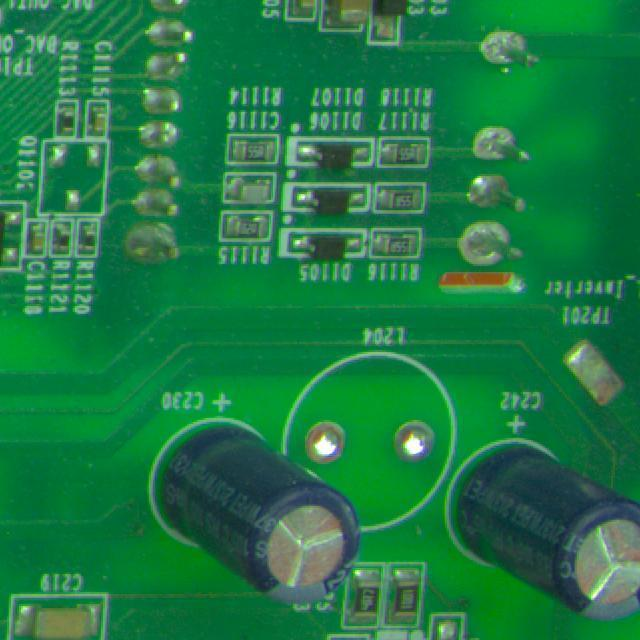Insufficient solder: (456, 208, 523, 286), (450, 110, 538, 165), (468, 14, 537, 80), (301, 416, 349, 468), (393, 416, 439, 466)
